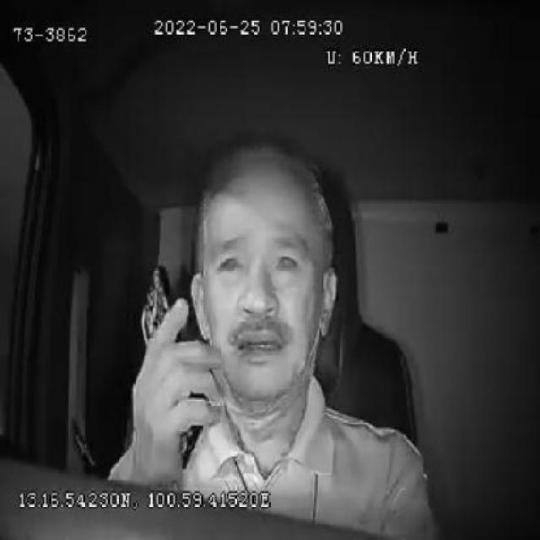phone: (138, 262, 208, 469)
